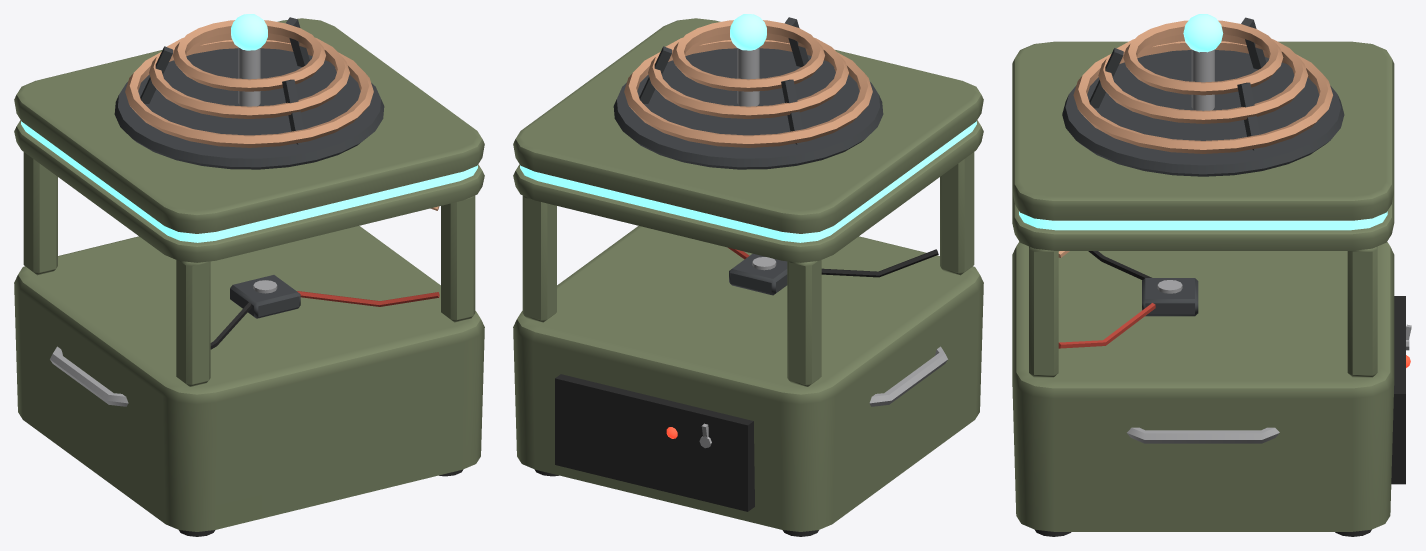
File: cloak_generator.glb
3 renders of one model, left to right at view 1: azimuth 30°, elevation 25°; view 2: azimuth 150°, elevation 25°; view 3: azimuth 270°, elevation 25°, orthographic. The views are drawn at different scales.
Visible parts, largest first — view 1: body; view 2: body; view 3: body.
Boxes of the visible parts, x1,y1,x2,y2 form: body: (14,14,484,536); body: (513,14,983,536); body: (1012,14,1411,536).
Size of the model in its own units: 0.2489 by 0.2987 by 0.2405.
